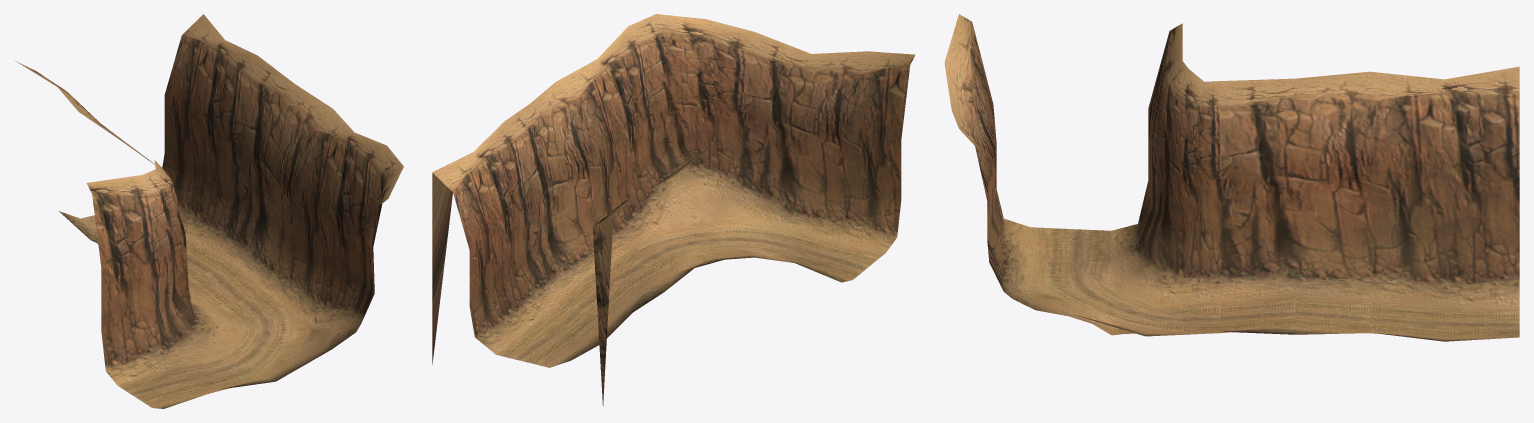
File: Zone04A.glb
The picture shows the model from 3 angles, left to right: view 1: azimuth 30°, elevation 25°; view 2: azimuth 150°, elevation 25°; view 3: azimuth 270°, elevation 25°; orthographic projection. The views are drawn at different scales.
Parts seen in each view (by area): view 1: ZONE04A003, ZONE04A008, ZONE04A011, ZONE04A005, ZONE04A004, ZONE04A007, ZONE04A001, ZONE04A010, ZONE04A, ZONE04A002, ZONE04A009; view 2: ZONE04A001, ZONE04A, ZONE04A011, ZONE04A008, ZONE04A005, ZONE04A010, ZONE04A004, ZONE04A007, ZONE04A002, ZONE04A009, ZONE04A003; view 3: ZONE04A006, ZONE04A009, ZONE04A003, ZONE04A010, ZONE04A007, ZONE04A, ZONE04A004, ZONE04A001.
Boxes of the visible parts, <box> form: ZONE04A003: <box>86,160,258,396</box>; ZONE04A008: <box>224,55,332,257</box>; ZONE04A011: <box>164,14,256,215</box>; ZONE04A005: <box>294,109,386,305</box>; ZONE04A004: <box>191,248,363,352</box>; ZONE04A007: <box>186,220,293,308</box>; ZONE04A001: <box>219,178,388,381</box>; ZONE04A010: <box>59,154,234,246</box>; ZONE04A: <box>135,362,274,408</box>; ZONE04A002: <box>364,146,403,292</box>; ZONE04A009: <box>15,61,99,122</box>; ZONE04A001: <box>650,19,811,244</box>; ZONE04A: <box>761,51,915,266</box>; ZONE04A011: <box>432,121,526,364</box>; ZONE04A008: <box>504,82,593,289</box>; ZONE04A005: <box>556,26,649,224</box>; ZONE04A010: <box>469,259,631,367</box>; ZONE04A004: <box>593,157,751,274</box>; ZONE04A007: <box>536,215,693,324</box>; ZONE04A002: <box>628,14,705,156</box>; ZONE04A009: <box>592,188,650,406</box>; ZONE04A003: <box>712,240,868,282</box>; ZONE04A006: <box>1220,71,1369,277</box>; ZONE04A009: <box>1370,66,1519,239</box>; ZONE04A003: <box>1071,23,1220,302</box>; ZONE04A010: <box>1370,238,1519,341</box>; ZONE04A007: <box>1220,232,1406,334</box>; ZONE04A: <box>944,14,1110,288</box>; ZONE04A004: <box>1074,271,1257,336</box>; ZONE04A001: <box>952,111,1107,327</box>.
Size of the model in its own units: 18.77 by 14.81 by 30.76.
6 materials, 6 textured.
